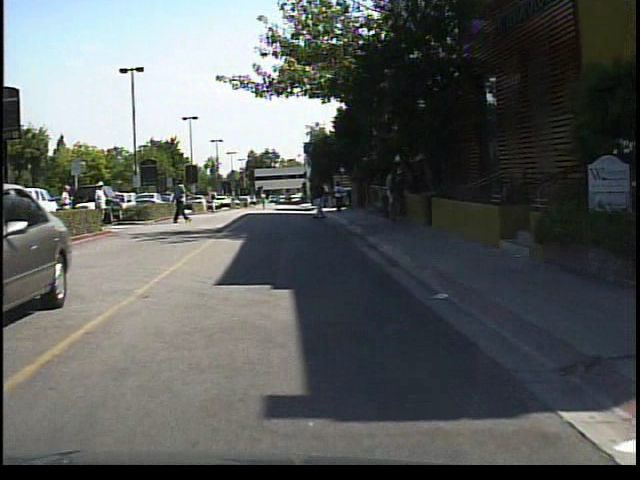person: (382, 158, 408, 228), (310, 167, 336, 222), (169, 173, 194, 227), (92, 176, 114, 226), (58, 180, 79, 232), (399, 167, 419, 221), (332, 175, 349, 215), (207, 186, 222, 215), (257, 188, 273, 212)
